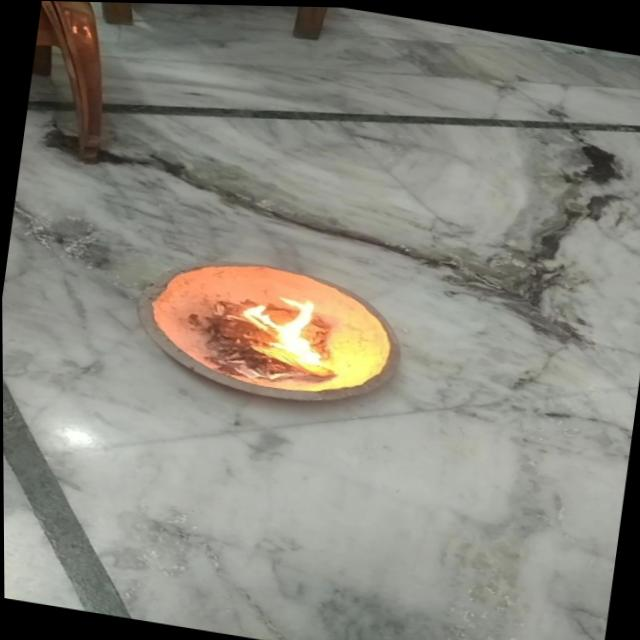fire: (224, 284, 342, 374)
